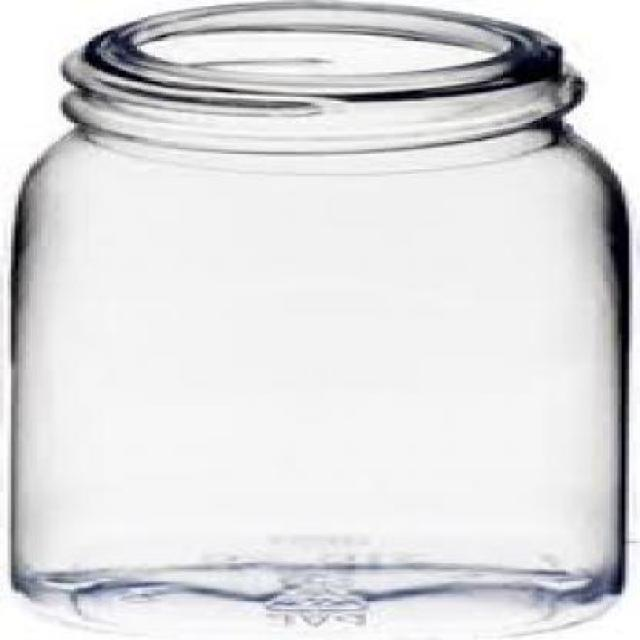kaca: (10, 0, 626, 632)
